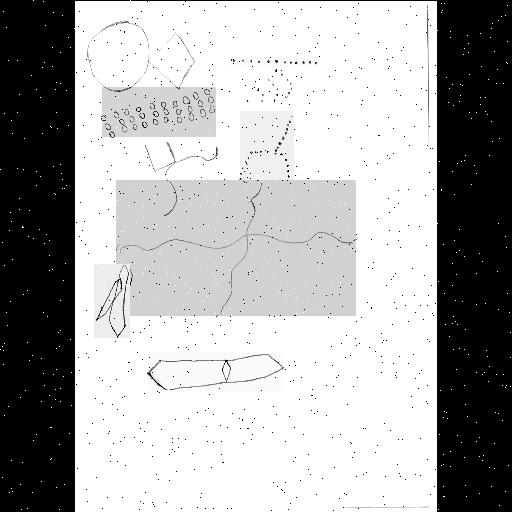shape-1: (84, 20, 196, 92)
shape-2: (230, 56, 318, 66)
shape-3: (102, 87, 216, 137)
shape-4: (246, 68, 292, 104)
shape-5: (144, 142, 216, 212)
shape-6: (240, 111, 294, 183)
shape-7: (116, 180, 356, 316)
shape-8: (94, 264, 130, 338)
shape-9: (148, 352, 284, 392)
